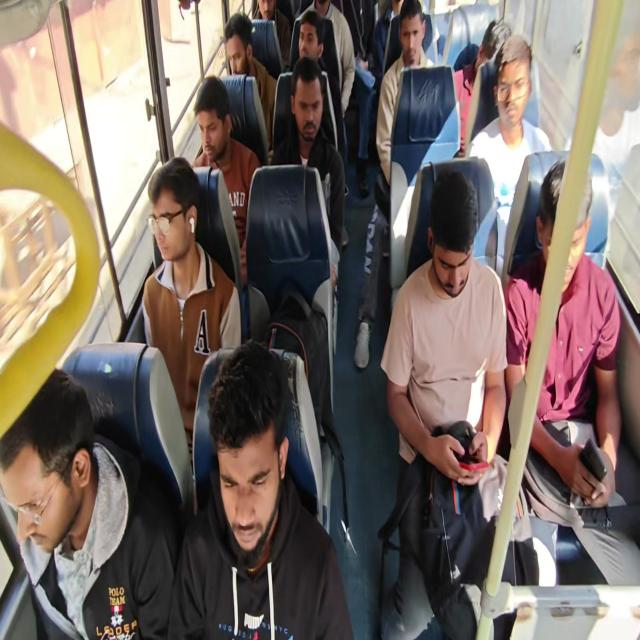person: (404, 163, 538, 360), (0, 397, 107, 640), (210, 317, 274, 547), (149, 144, 211, 338), (526, 162, 576, 293), (166, 81, 230, 169), (488, 41, 545, 134), (217, 18, 284, 92), (279, 66, 333, 151), (401, 0, 452, 66), (475, 31, 519, 68), (294, 20, 322, 72), (313, 0, 343, 31), (254, 0, 278, 30), (385, 0, 405, 26)
